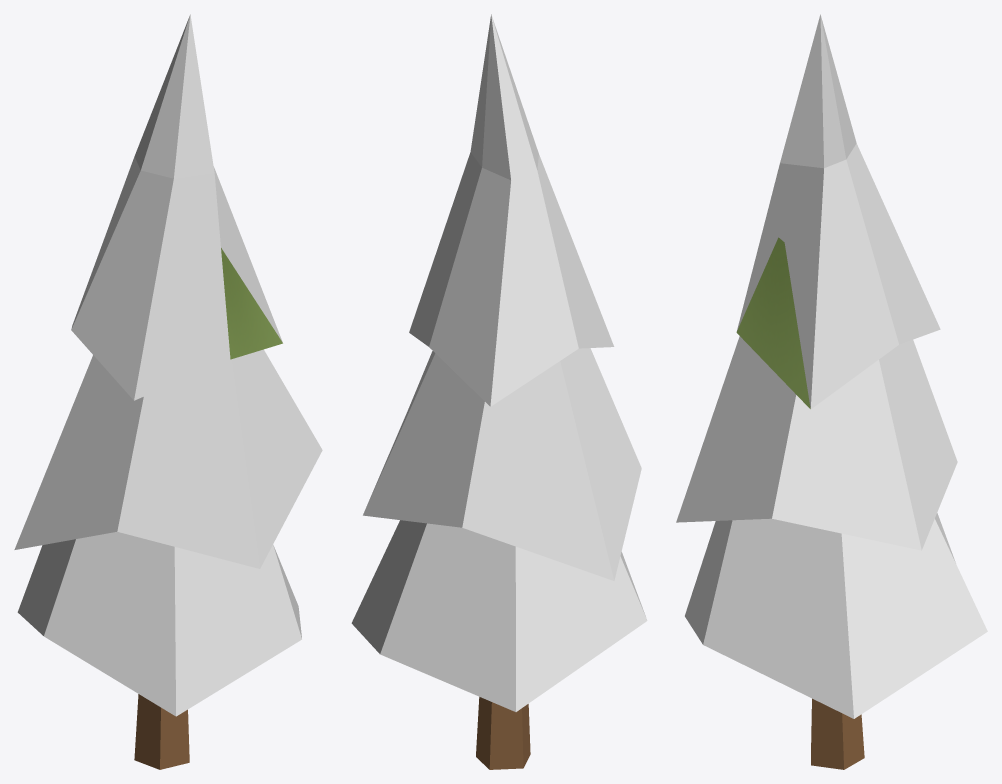
File: Pine_Tree_s_Snow_03.fbx
3 views of the same model, side by side, from view 1: azimuth 30°, elevation 25°; view 2: azimuth 150°, elevation 25°; view 3: azimuth 270°, elevation 25° (orthographic). The views are drawn at different scales.
Parts seen in each view (by area): view 1: Pine_Tree_s_Snow_03; view 2: Pine_Tree_s_Snow_03; view 3: Pine_Tree_s_Snow_03.
Boxes of the visible parts, bbox=[...] form: Pine_Tree_s_Snow_03: bbox=[14, 14, 322, 769]; Pine_Tree_s_Snow_03: bbox=[351, 14, 647, 769]; Pine_Tree_s_Snow_03: bbox=[676, 14, 987, 769].
Size of the model in its own units: 121 by 310 by 116.
